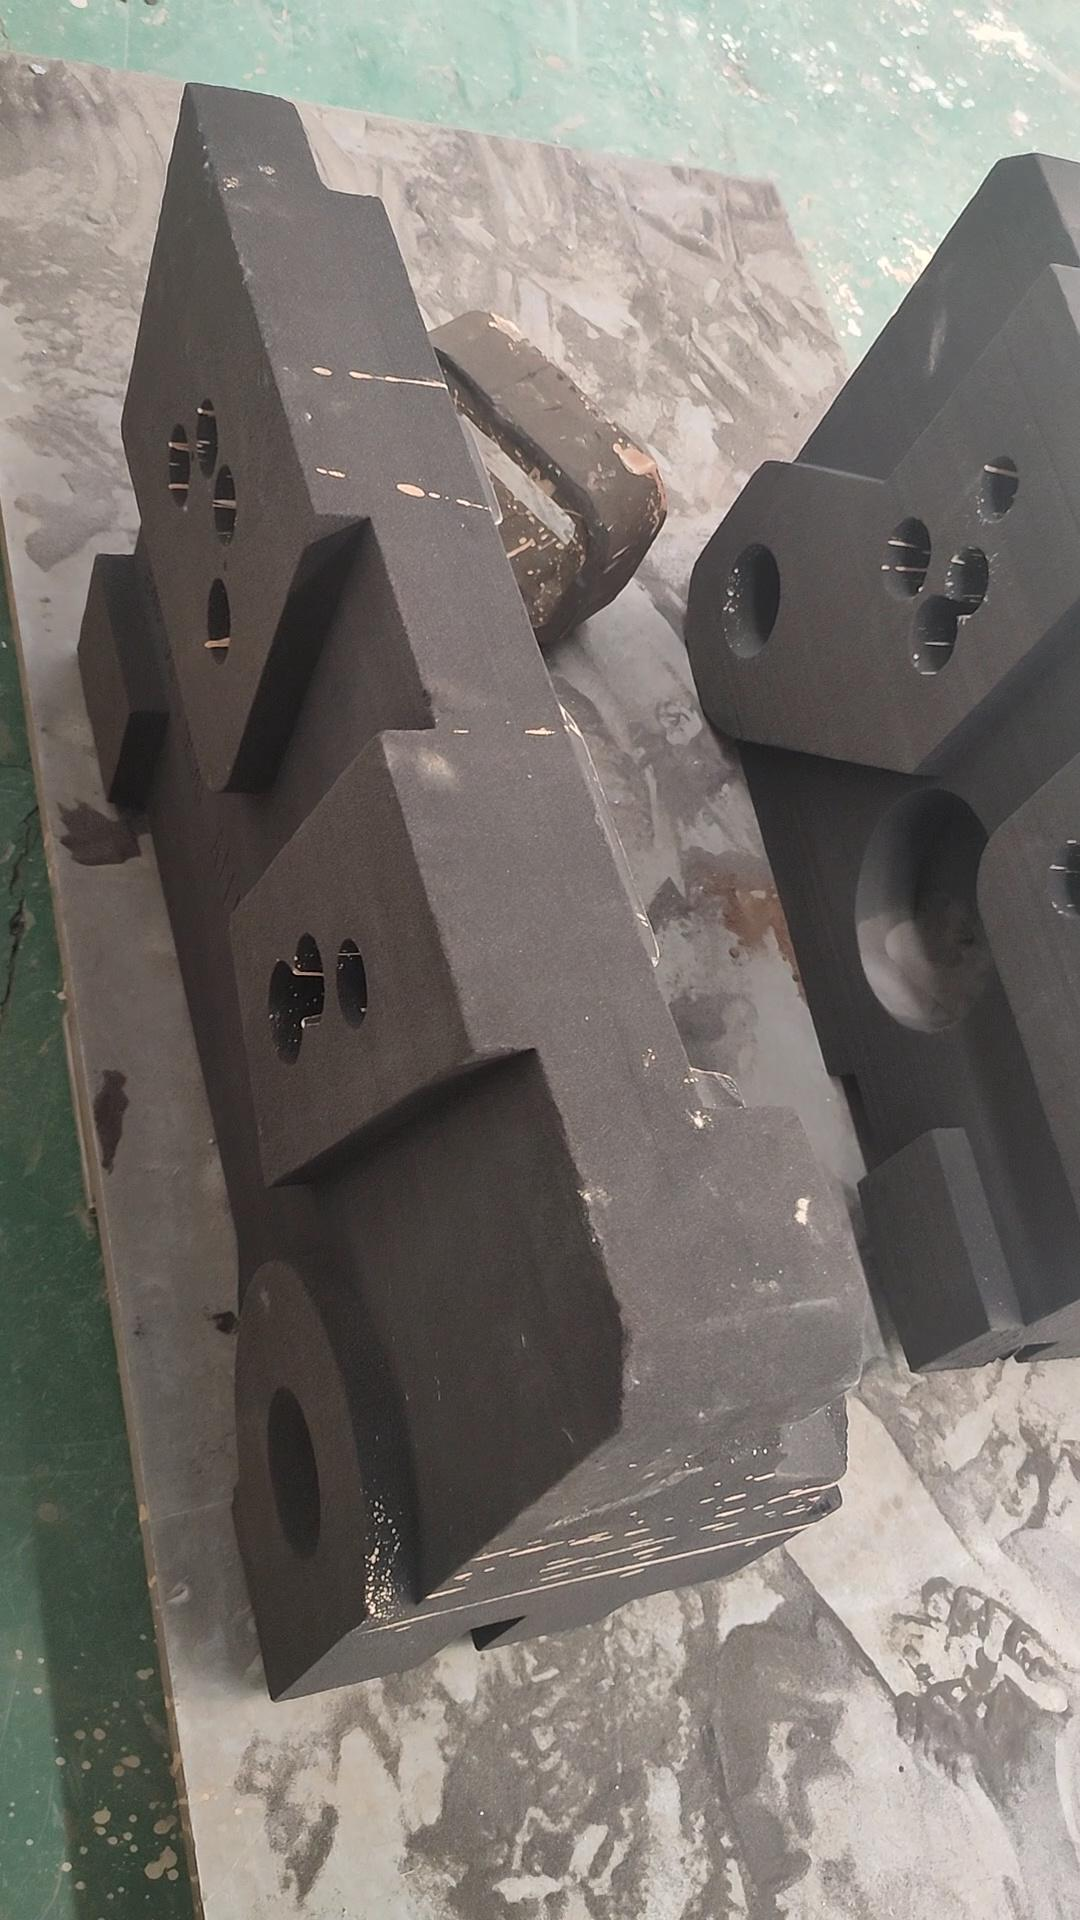pouring hole: (262, 1386, 330, 1561), (717, 543, 783, 662)
